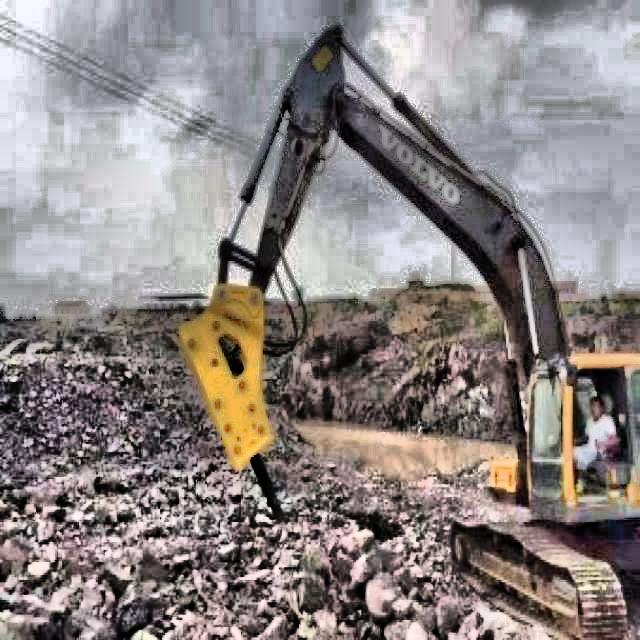bull_dozer/loader/grader: (173, 22, 640, 640)
person: (573, 391, 628, 494)
